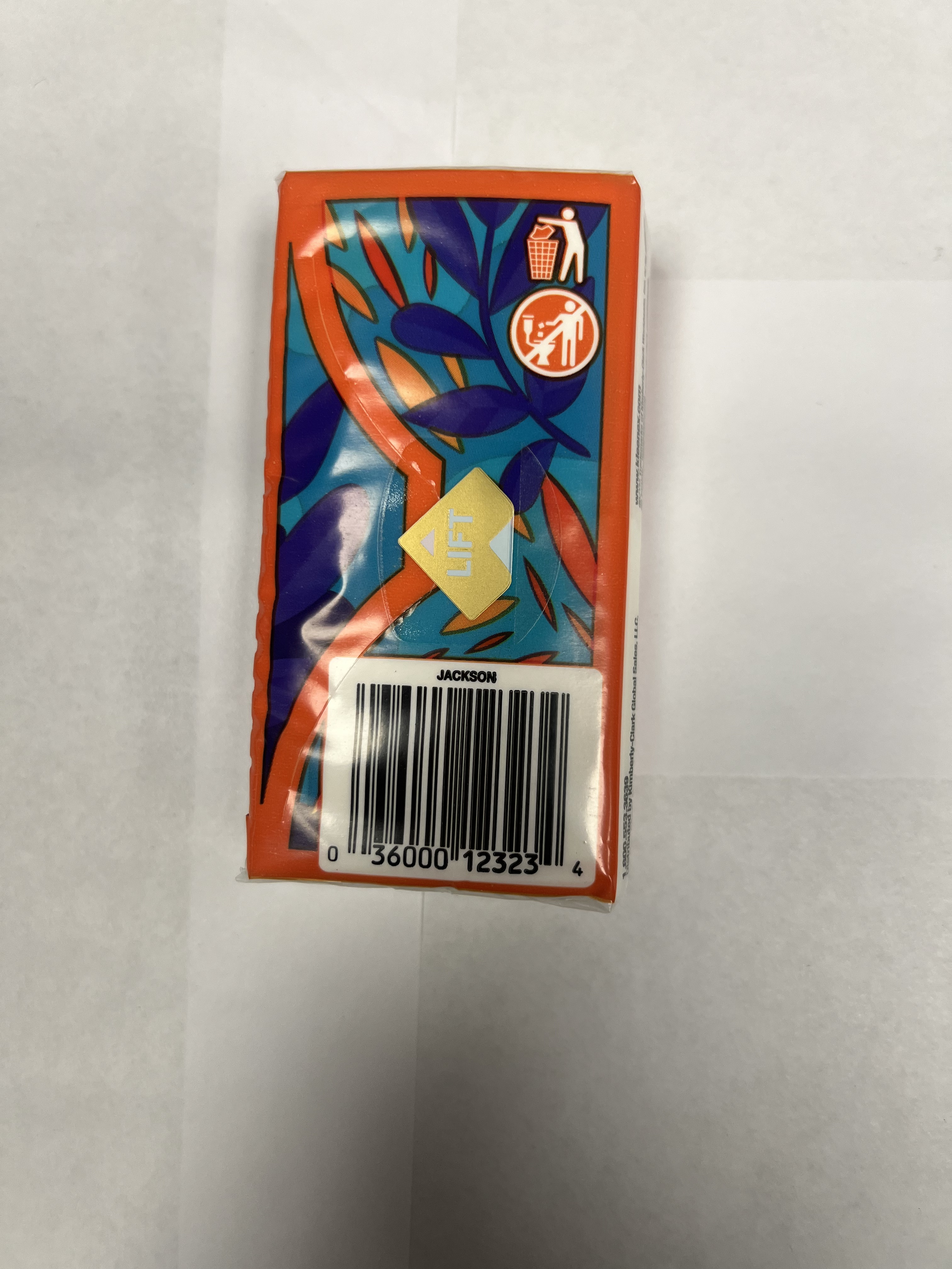packaged: (234, 157, 655, 914)
